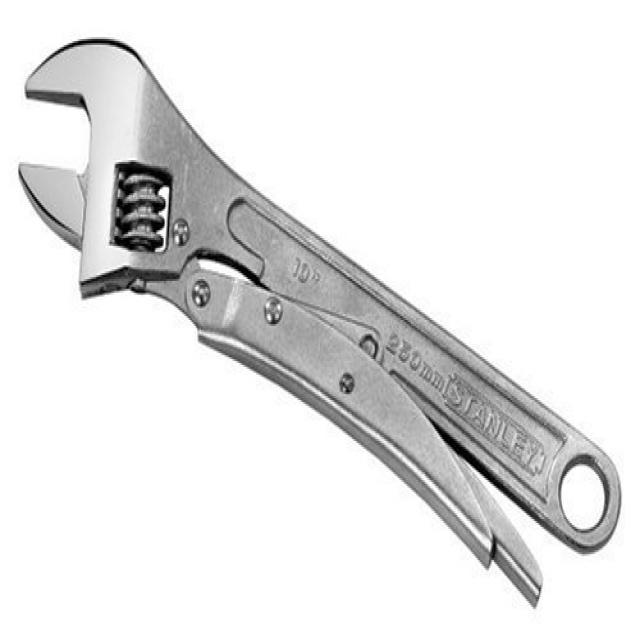wrench: (12, 27, 628, 614)
